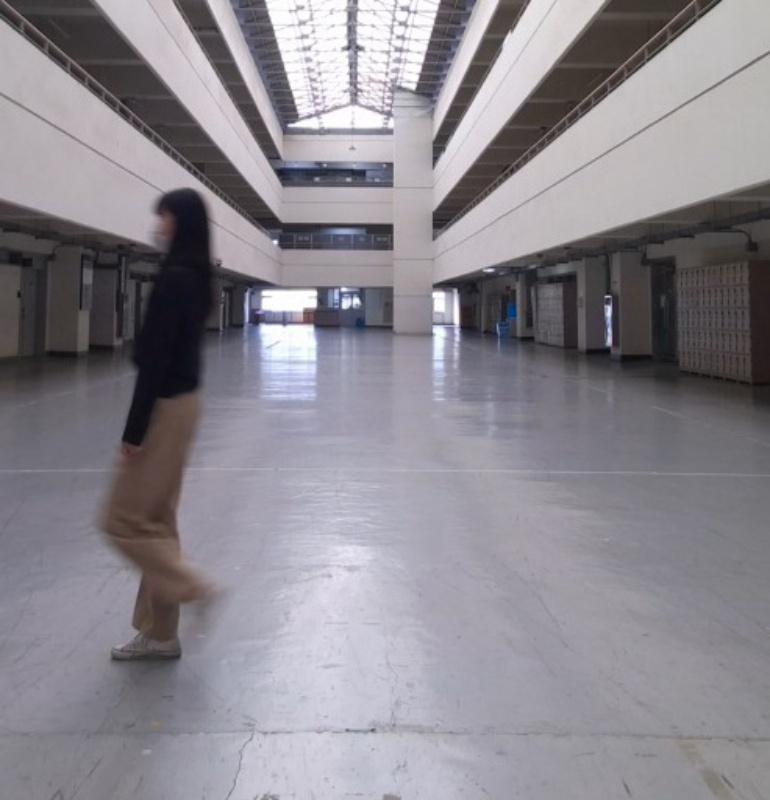person: (95, 185, 226, 660)
